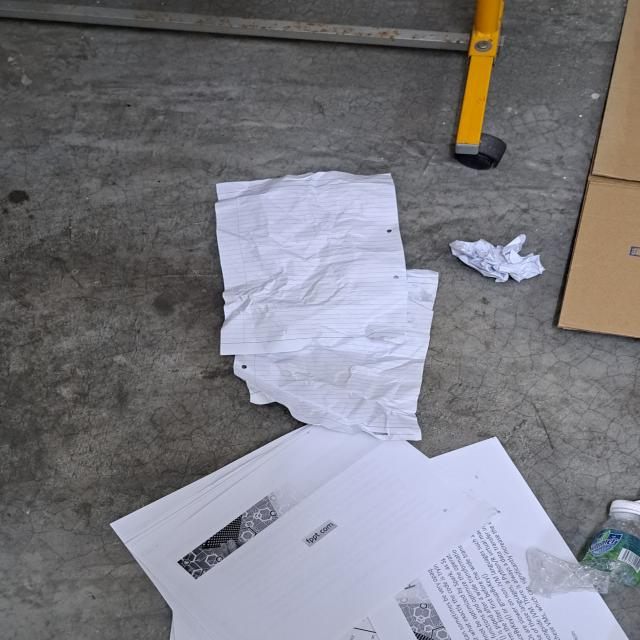cardboard: (559, 0, 640, 341)
paper: (110, 424, 630, 640), (214, 170, 433, 438), (449, 232, 545, 283)
plastic bottle: (521, 496, 640, 598)
plastic bottle cap: (606, 496, 640, 523)
